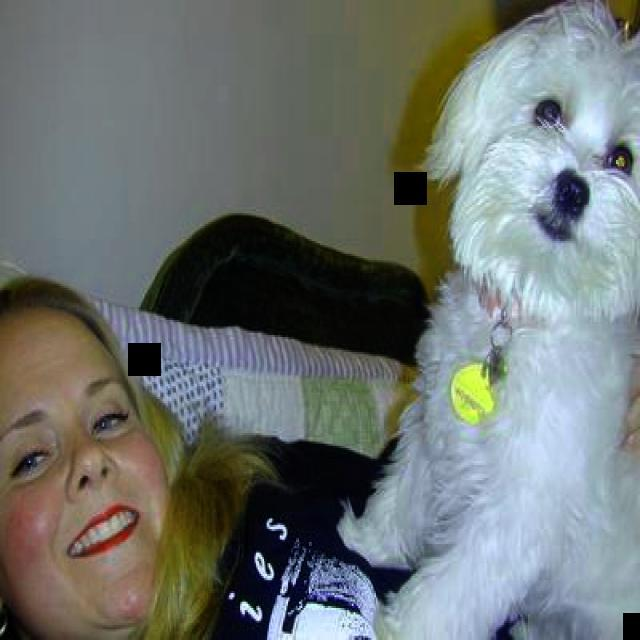adult_dog: (335, 5, 640, 632)
non-dog: (1, 276, 411, 635)
